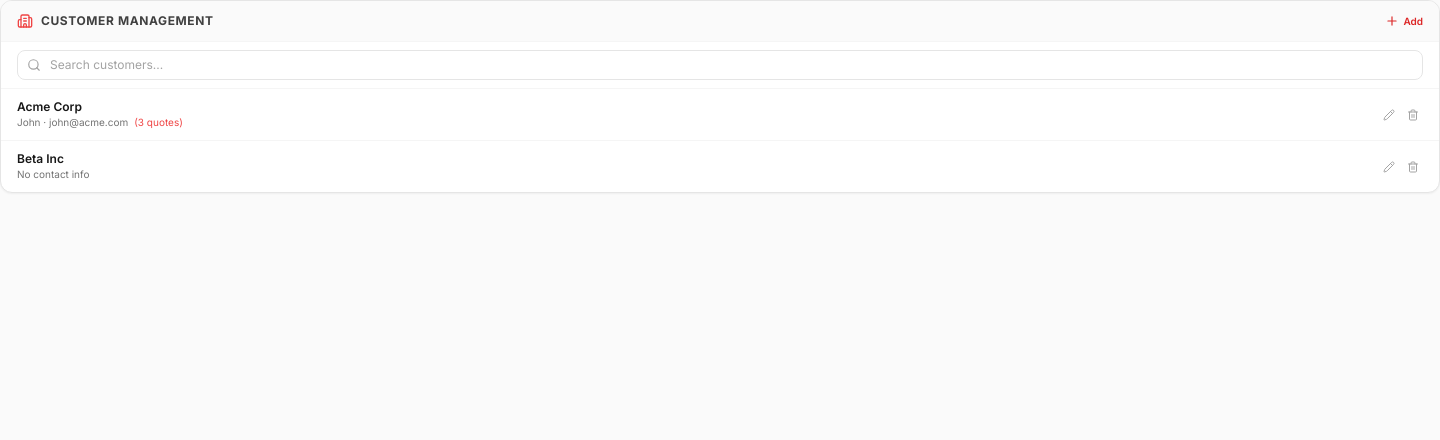
Test case: CustomerManagement › opens edit form with pre-filled data
Expected: the text "Acme Corp" is shown, [17,99,82,114]
Step 1. Click the button named "Edit Acme Corp" → click(1389, 114), box [1379,104,1399,124]
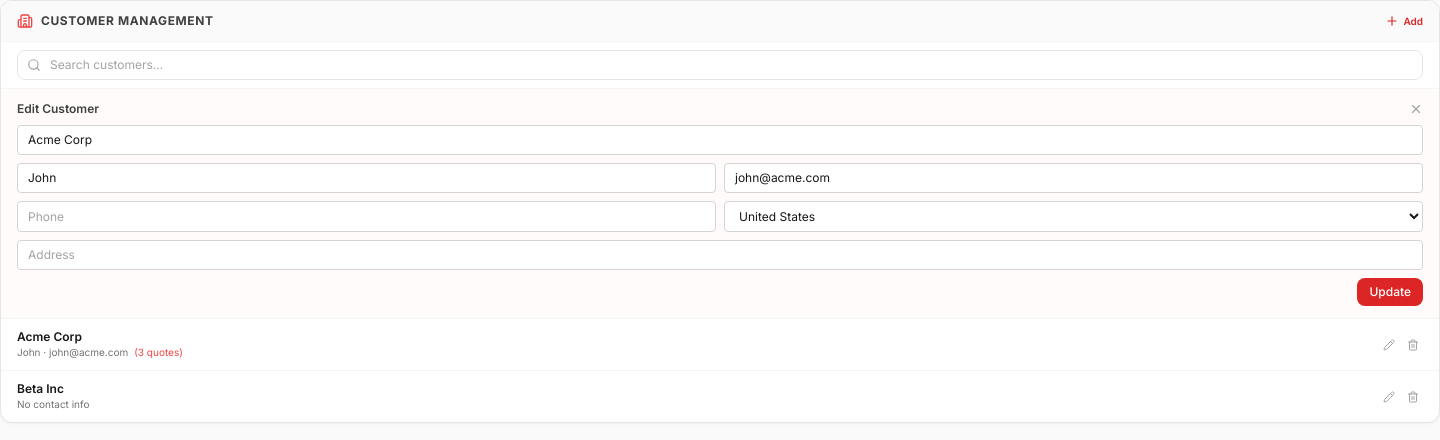
Now the text "Edit Customer" is shown, box [17,101,99,117]
Now the 1st field showing "Acme Corp" is shown, box [17,125,1423,155]
